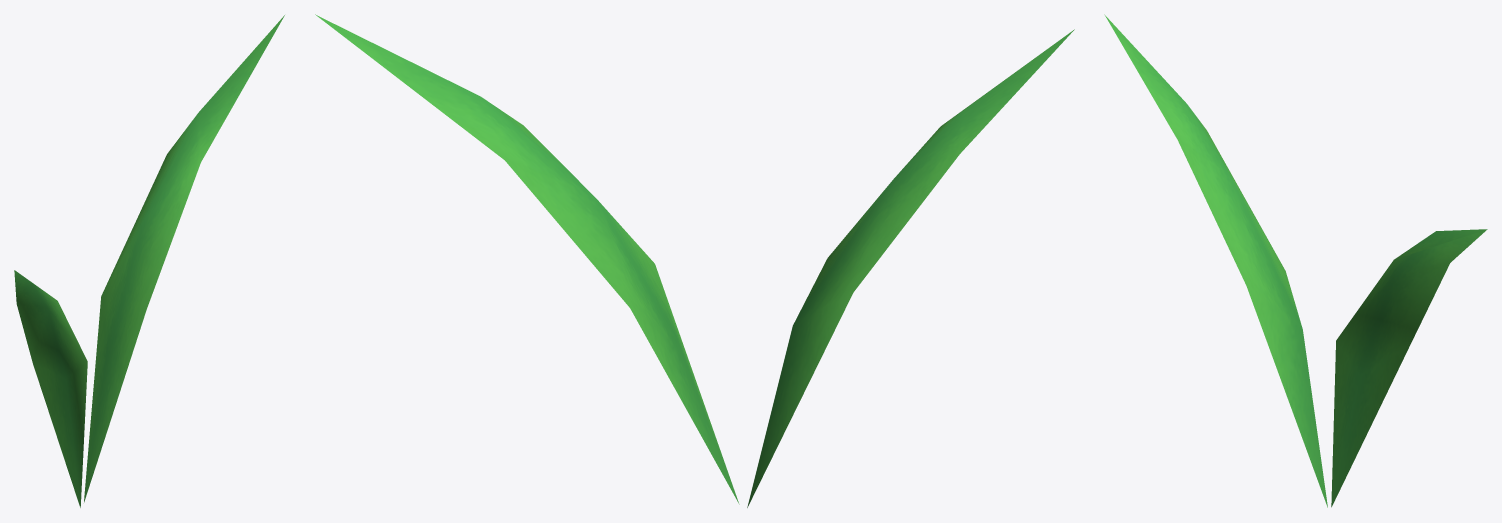
Rendered from Grass_Clump_1.fbx.
The picture shows the model from 3 angles, left to right: view 1: azimuth 30°, elevation 25°; view 2: azimuth 150°, elevation 25°; view 3: azimuth 270°, elevation 25°; orthographic projection. The views are drawn at different scales.
Visible parts, largest first — view 1: object6.026, object6.054; view 2: object6.026, object6.054; view 3: object6.054, object6.026.
Part boxes in pixels (left/top/right/bottom): object6.026: left=84, top=15, right=284, bottom=502; object6.054: left=14, top=270, right=87, bottom=507; object6.026: left=315, top=14, right=739, bottom=504; object6.054: left=747, top=29, right=1074, bottom=507; object6.054: left=1104, top=14, right=1327, bottom=507; object6.026: left=1331, top=229, right=1487, bottom=507.
Bounding box in the file's own units: 42.87 × 35.26 × 28.27.
